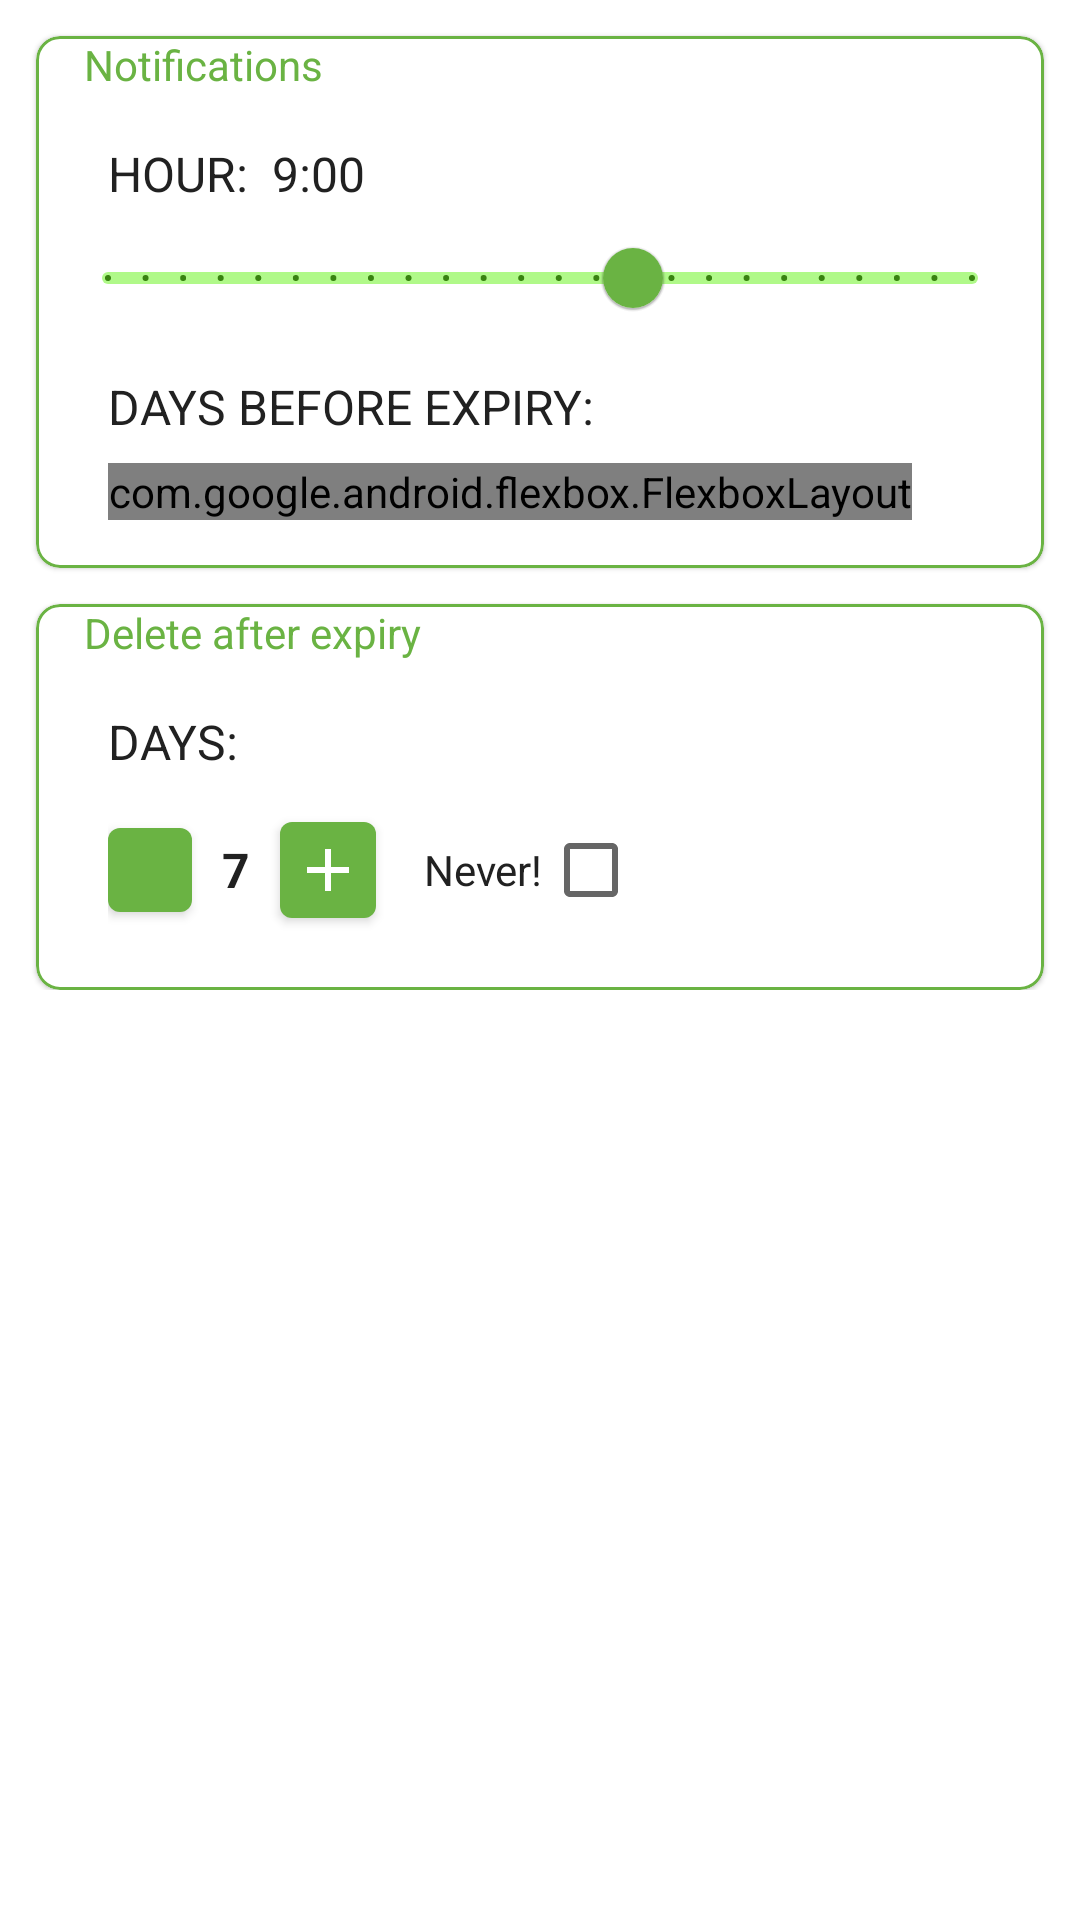

Icon click points for this 1080 x 1920 phone screenshot, format (x=x, y=y):
add: (x=328, y=870)
